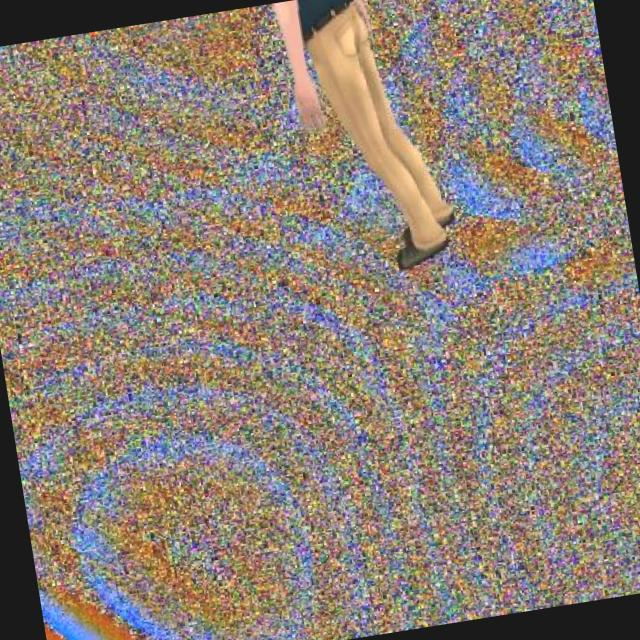Person: (268, 0, 469, 292)
